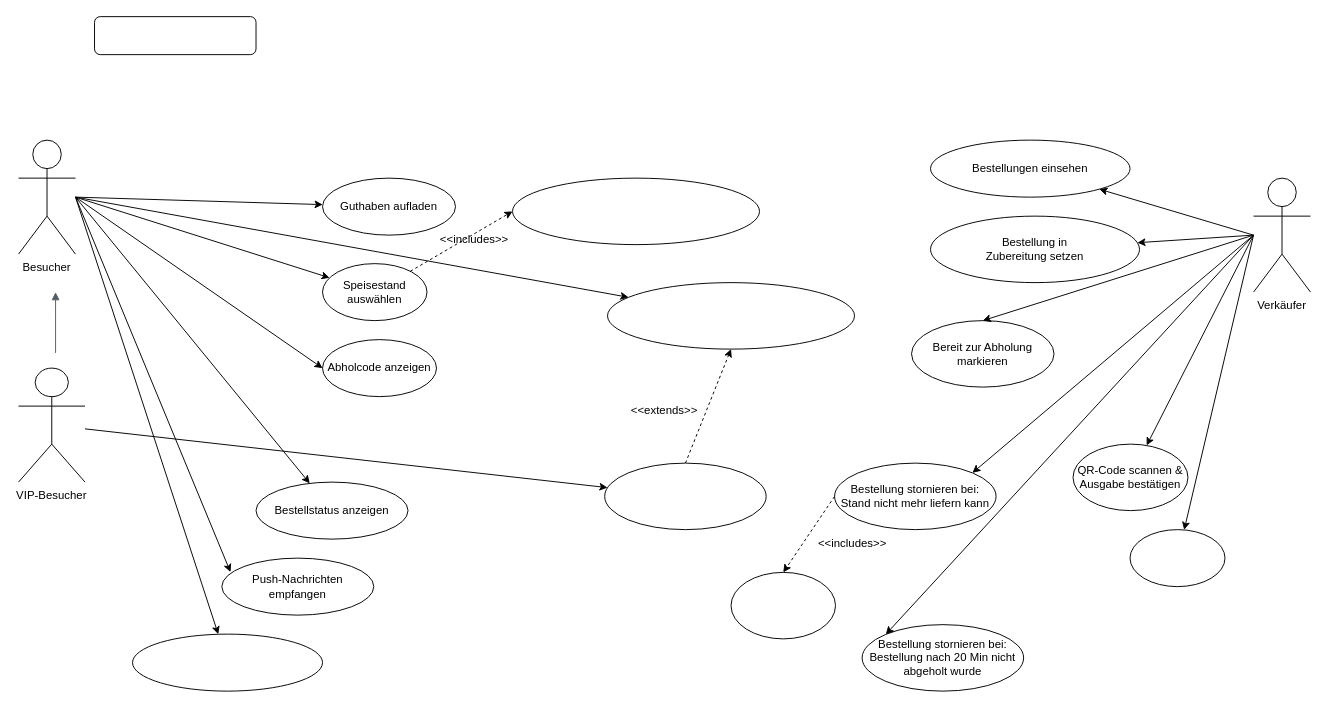
Some shapes in this 1327 by 708 pixel diagram are drawn without their labels. Here are the shapes that lost their labels. From the top down, the centre of each, then its label:
At pixel 175 35: "Anmeldung vorausgesetzt".
At pixel 636 211: "Wartezeit & Lagerbestand anzeigen".
At pixel 731 315: "Produkt auswählen & Bestellung aufgeben".
At pixel 685 496: "Bestellung priorisieren".
At pixel 1177 558: "Warnmeldungen bei Knappheit".
At pixel 783 605: "Guthaben Rückerstattung".
At pixel 227 662: "Bestellung freigeben für Freunde".
